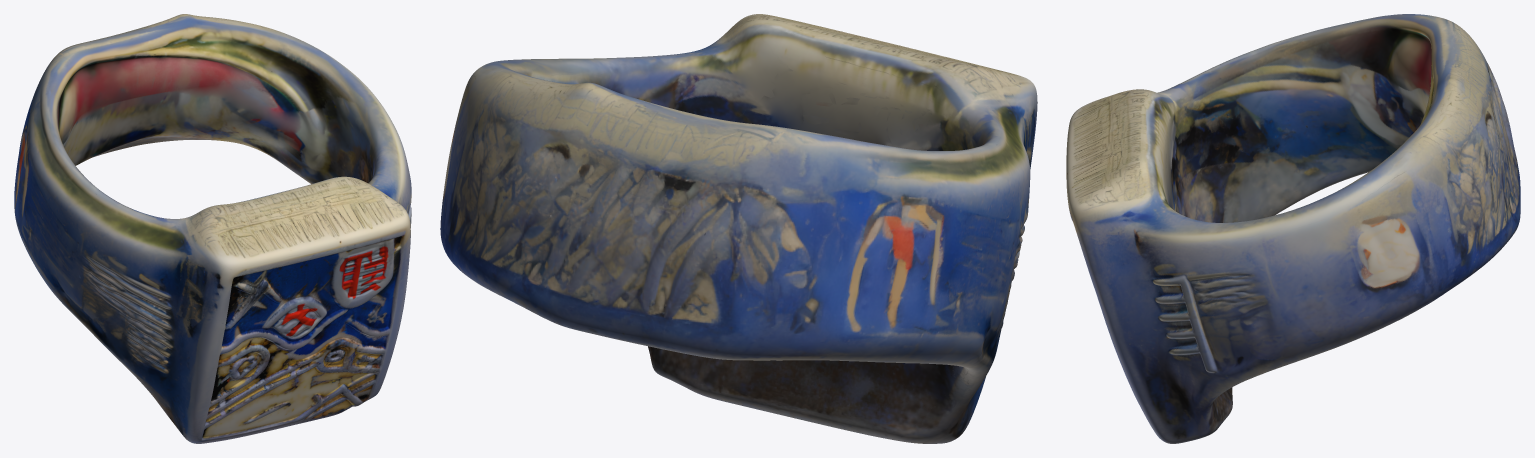
Rendered from 三民主义青年团直属国立西南联合大学分团从军纪念戒指.glb.
3 views of the same model, side by side, from view 1: azimuth 30°, elevation 25°; view 2: azimuth 150°, elevation 25°; view 3: azimuth 270°, elevation 25° (orthographic). The views are drawn at different scales.
Visible parts, largest first — view 1: texture_pbr_v128; view 2: texture_pbr_v128; view 3: texture_pbr_v128.
Part boxes in pixels (left/top/right/bottom): texture_pbr_v128: left=14, top=14, right=411, bottom=443; texture_pbr_v128: left=440, top=14, right=1037, bottom=443; texture_pbr_v128: left=1066, top=14, right=1520, bottom=443.
Bounding box in the file's own units: 0.9737 × 0.8504 × 1.02.
Materials: 1 (1 with a texture image).
